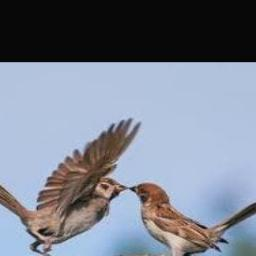Sparrow: (0, 119, 142, 256), (131, 182, 256, 256)
